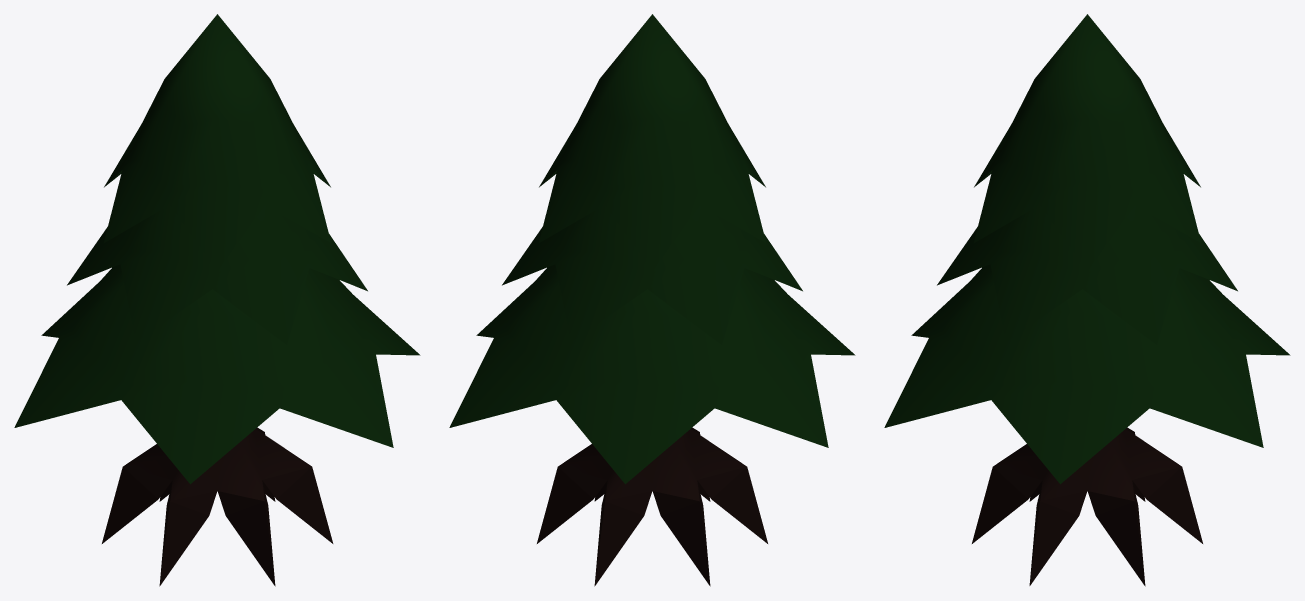
Rendered from mdl_Tree.fbx.
The picture shows the model from 3 angles, left to right: view 1: azimuth 30°, elevation 25°; view 2: azimuth 150°, elevation 25°; view 3: azimuth 270°, elevation 25°; orthographic projection.
Visible parts, largest first — view 1: Leaves Bot, Leaves Top, Leaves Mid, Trunk; view 2: Leaves Bot, Leaves Top, Leaves Mid, Trunk; view 3: Leaves Bot, Leaves Top, Leaves Mid, Trunk.
Boxes of the visible parts, x1=… form: Leaves Bot: x1=14, y1=264, x2=420, y2=484; Leaves Top: x1=104, y1=14, x2=330, y2=270; Leaves Mid: x1=67, y1=205, x2=367, y2=344; Trunk: x1=102, y1=427, x2=333, y2=586; Leaves Bot: x1=449, y1=264, x2=855, y2=484; Leaves Top: x1=539, y1=14, x2=765, y2=270; Leaves Mid: x1=502, y1=205, x2=802, y2=344; Trunk: x1=537, y1=427, x2=767, y2=586; Leaves Bot: x1=884, y1=264, x2=1290, y2=484; Leaves Top: x1=974, y1=14, x2=1200, y2=270; Leaves Mid: x1=937, y1=205, x2=1237, y2=344; Trunk: x1=972, y1=427, x2=1202, y2=586.
Size of the model in its own units: 94.32 by 87.53 by 126.
